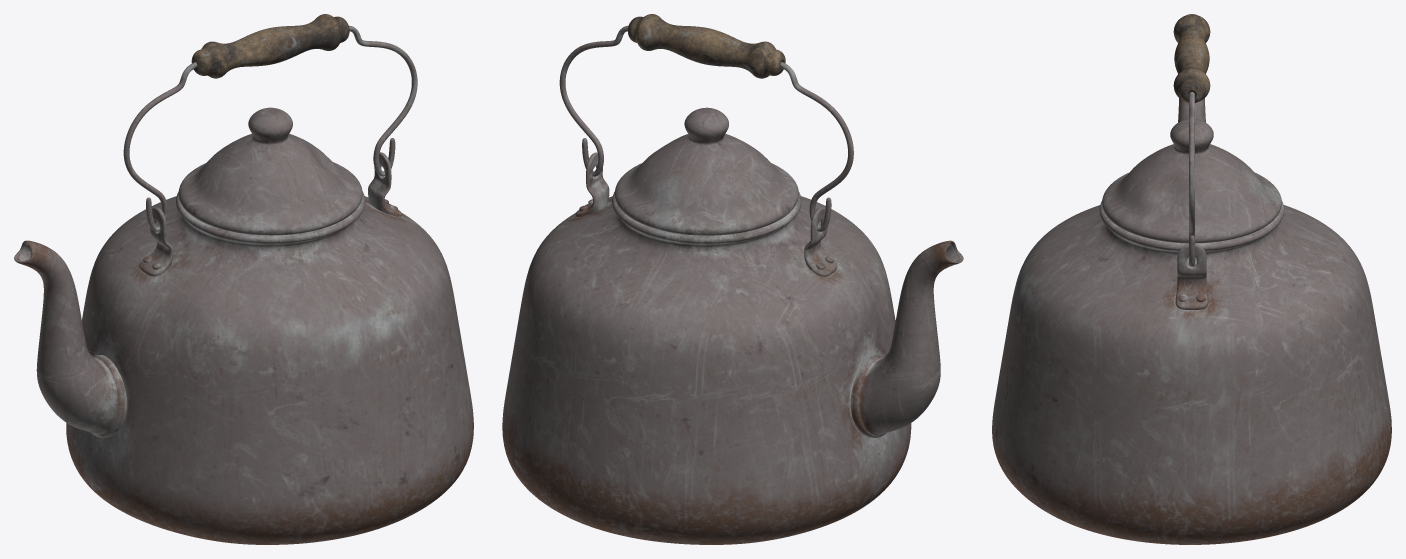
Rendered from uploads_files_5717329_Kettle.fbx.
The picture shows the model from 3 angles, left to right: view 1: azimuth 30°, elevation 25°; view 2: azimuth 150°, elevation 25°; view 3: azimuth 270°, elevation 25°; orthographic projection. The views are drawn at different scales.
Parts seen in each view (by area): view 1: Kettle; view 2: Kettle; view 3: Kettle.
Part boxes in pixels (x1,y1,x2,y2): Kettle: (14, 14, 473, 544); Kettle: (502, 14, 963, 544); Kettle: (992, 14, 1391, 544).
Size of the model in its own units: 31.8 by 31.69 by 26.09.
